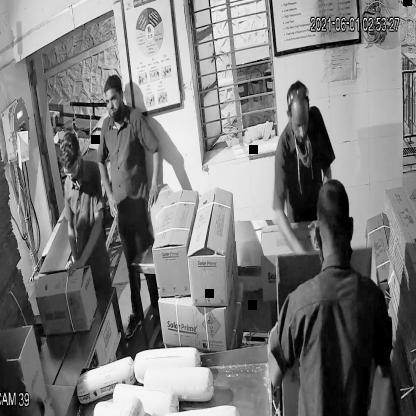goggles: (56, 157, 83, 184)
no_goggles: (103, 92, 125, 112)
